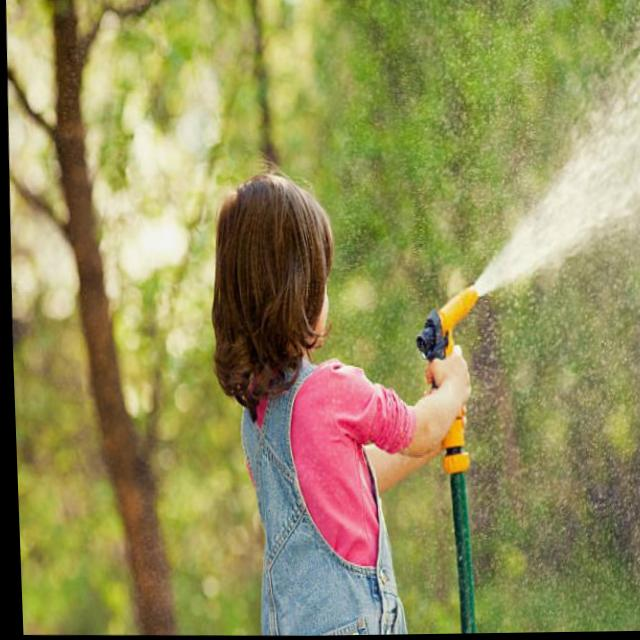no helmet: (183, 177, 349, 405)
